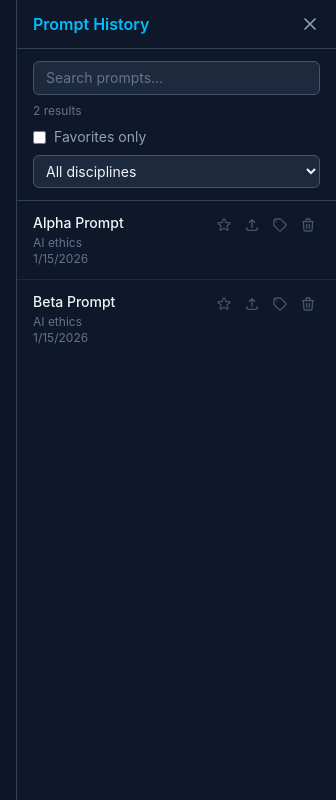
Test case: PromptHistory — search › filters records by title
Check: the text "Alpha Prompt" is shown, box [33,214,124,231]
Type "alpha" into the field labelled "Search prompts…" at (176, 78), box [33,61,320,95]
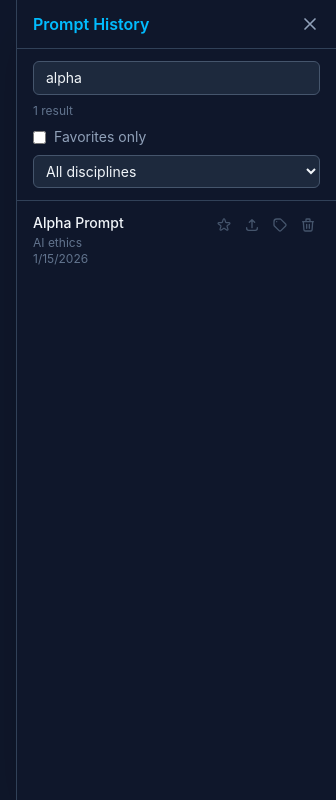
Check: the text "Alpha Prompt" is shown, box [33,214,124,231]
Check: the text "Beta Prompt" is gone
